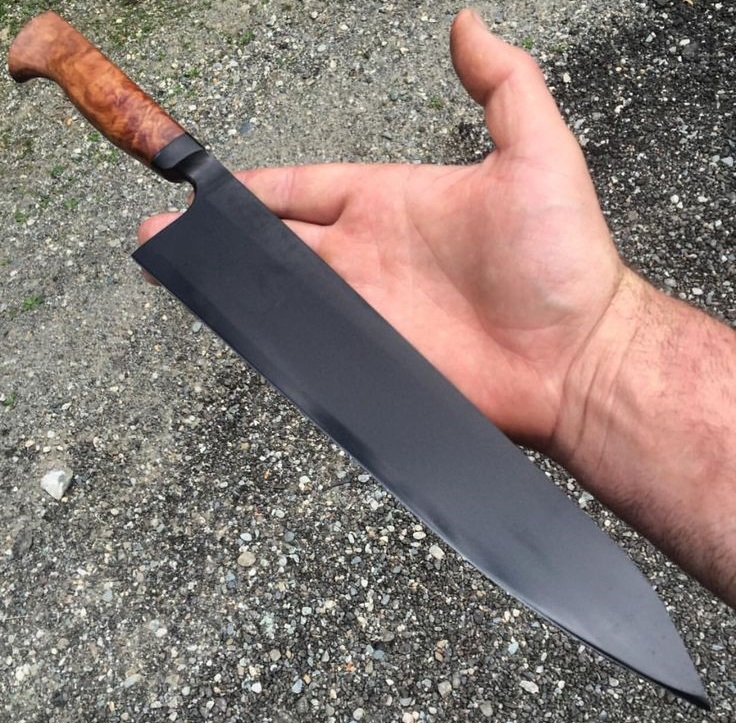knife: (216, 151, 720, 718)
